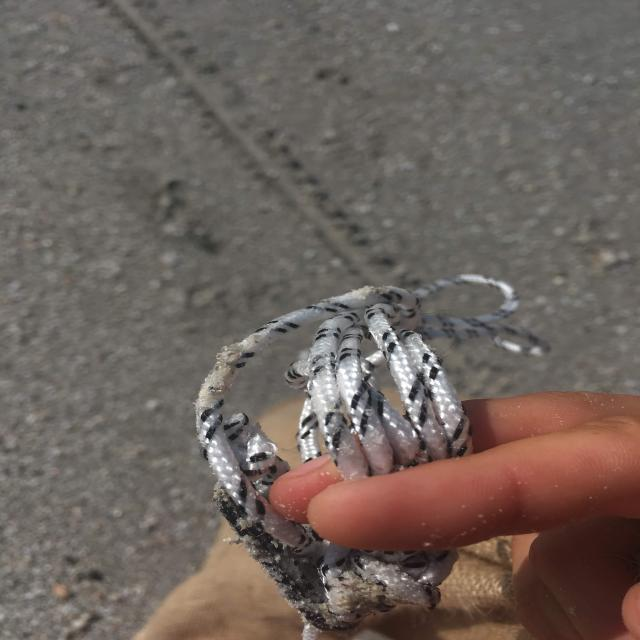litter: (188, 271, 551, 639)
